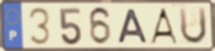3: (27, 6, 52, 47)
5: (57, 6, 83, 47)
6: (88, 5, 115, 47)
A: (148, 7, 180, 46), (116, 8, 150, 44)
U: (177, 6, 208, 46)
